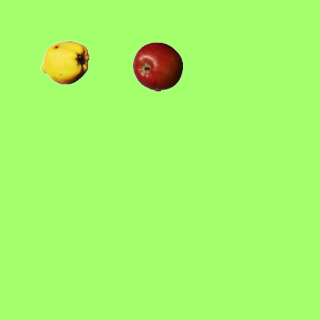Apple Braeburn: (132, 41, 182, 91)
Quince: (39, 37, 89, 87)
